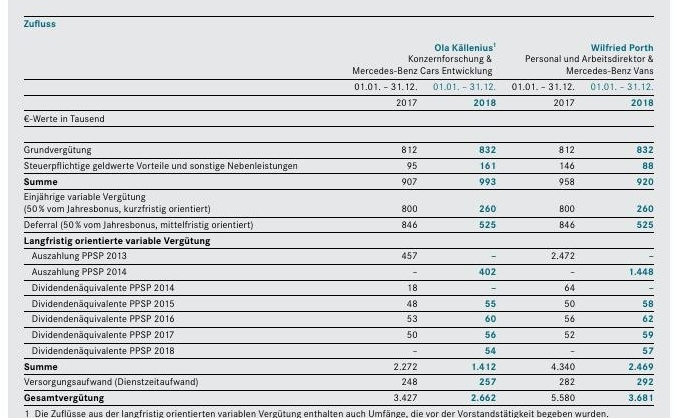table: (0, 0, 675, 418)
